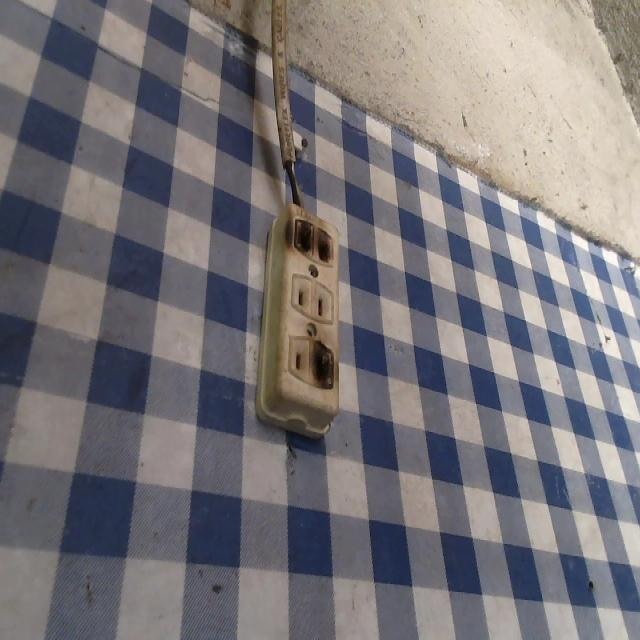-: (282, 214, 335, 266), (305, 334, 340, 394)
